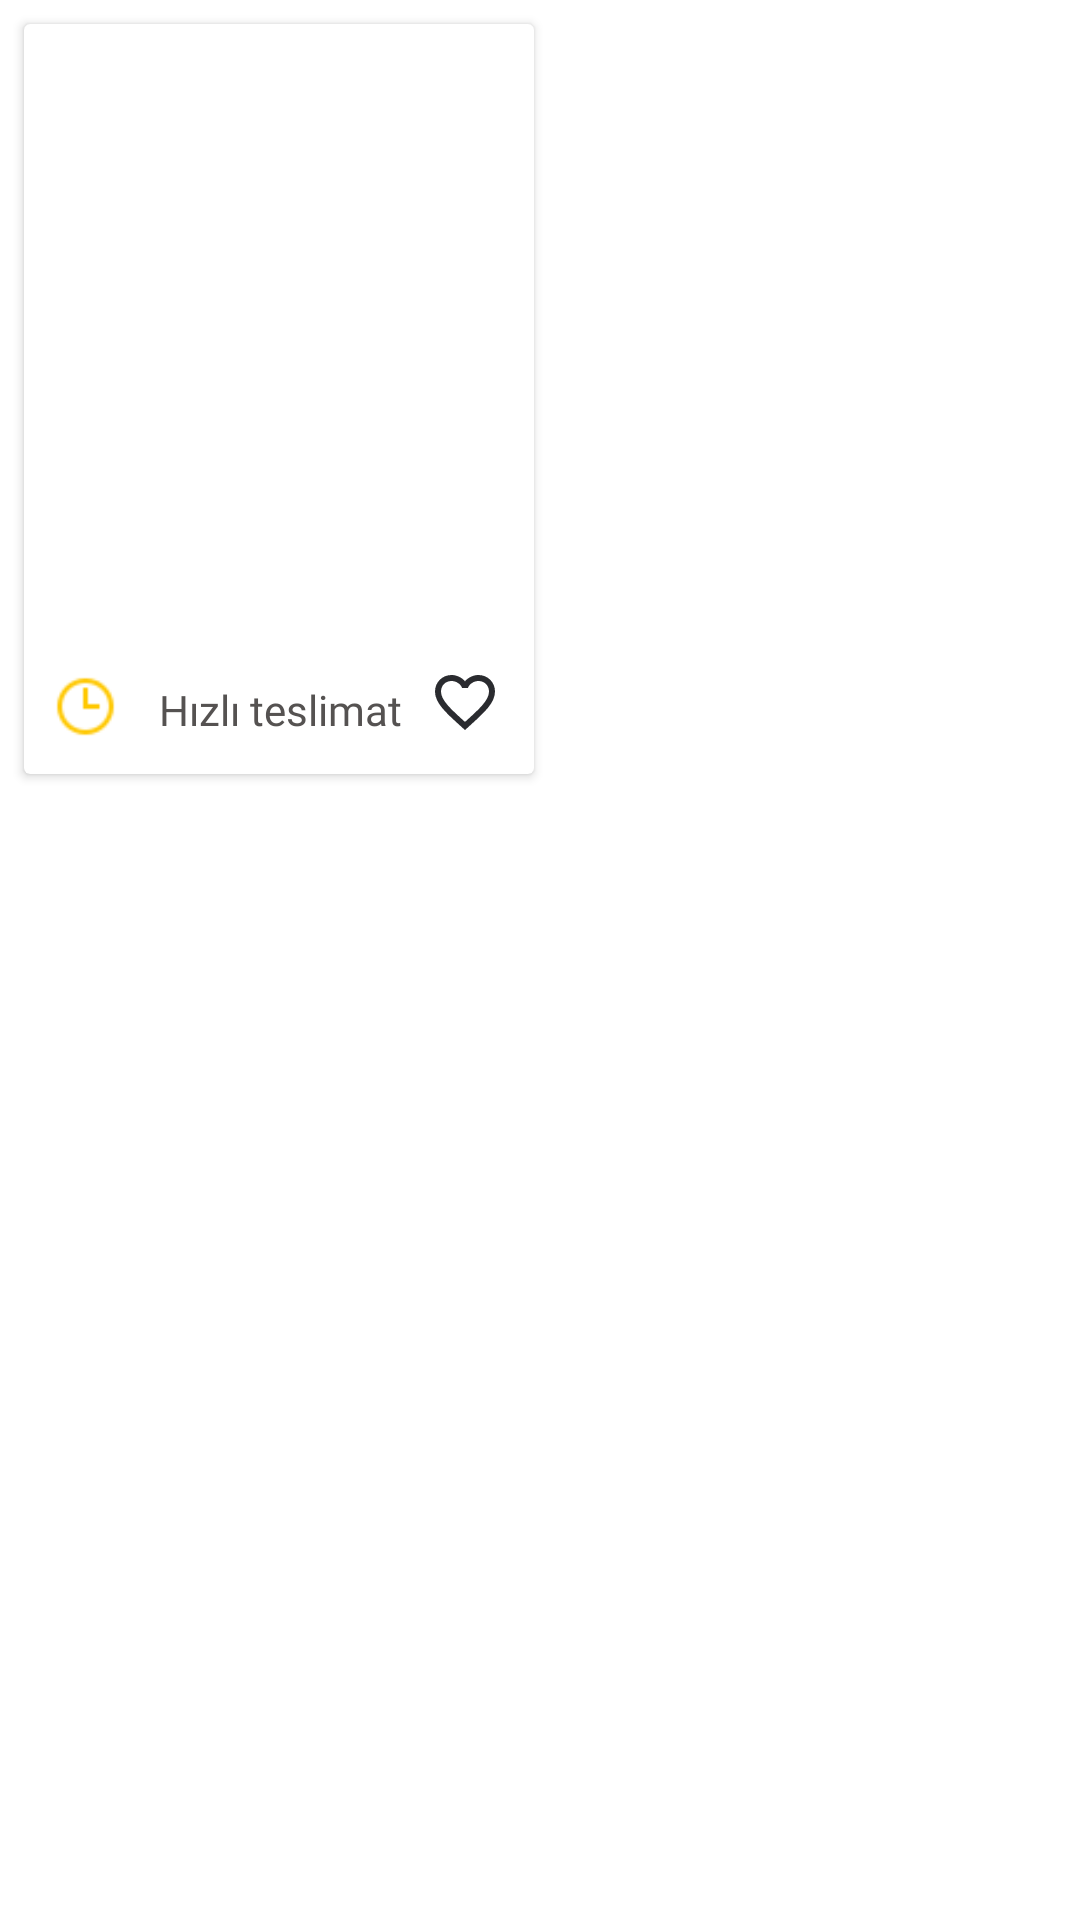

Screen size 1080x1920. Icon name, then its box in pixels as [x1,y1,x2,y2]:
selectec fav: [435,675,495,730]
teslimat resim: [56,677,115,736]
